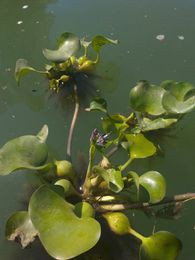water_hyacinth: (0, 29, 195, 260)
